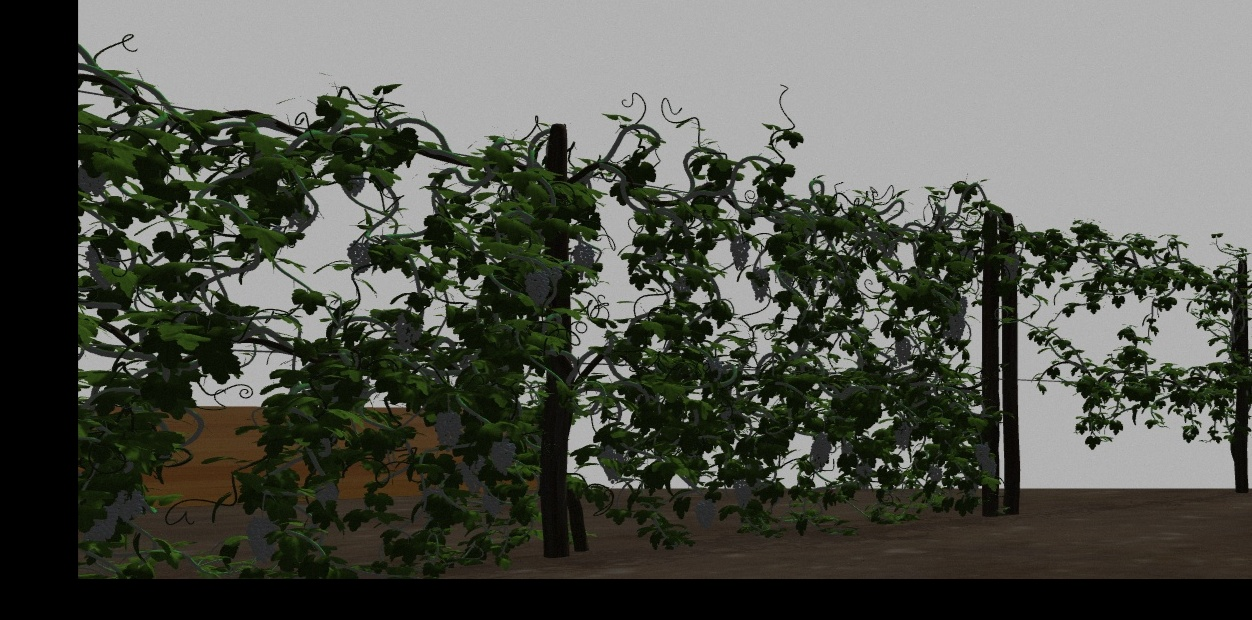grape: (244, 515, 279, 562), (85, 246, 119, 292), (88, 502, 122, 546), (433, 409, 463, 451), (392, 314, 425, 352), (459, 453, 486, 495), (943, 298, 969, 340), (490, 437, 516, 476), (117, 486, 143, 524), (79, 163, 106, 197), (346, 239, 371, 275), (313, 477, 339, 510), (729, 234, 752, 271), (809, 434, 832, 469), (529, 270, 550, 306), (572, 243, 595, 275), (693, 500, 717, 530), (749, 268, 770, 302), (732, 478, 753, 510), (1001, 254, 1021, 285), (892, 423, 912, 450), (894, 336, 912, 366), (981, 456, 997, 481), (974, 442, 991, 462), (926, 466, 943, 482)
